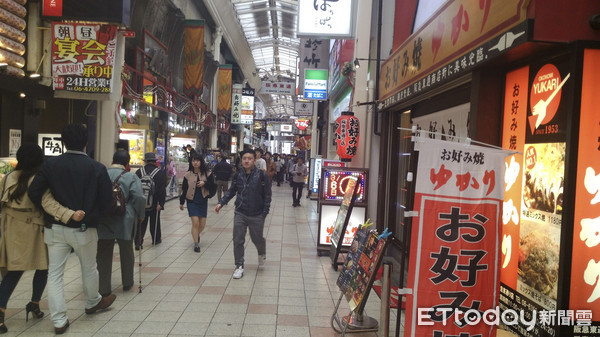people: (43, 121, 110, 315), (2, 146, 44, 332), (223, 147, 269, 282), (105, 150, 144, 291), (181, 157, 209, 254), (137, 148, 163, 243), (290, 154, 303, 202)
